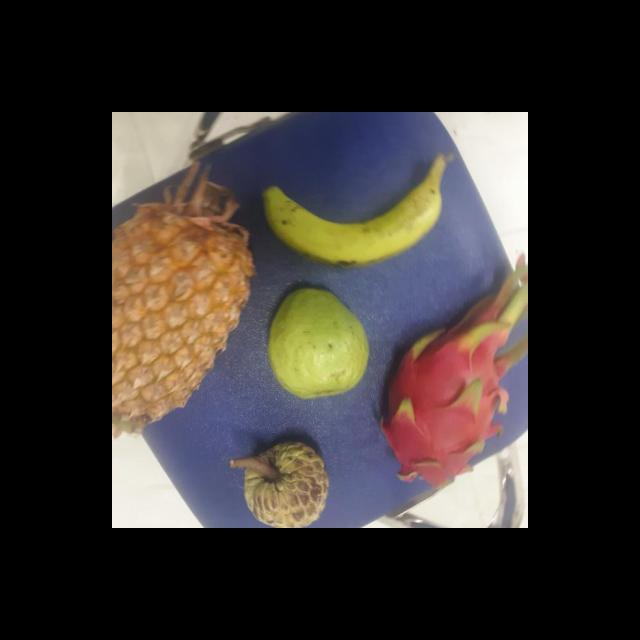Sakya fruit: (238, 438, 335, 528)
banana: (270, 170, 454, 266)
guava: (266, 288, 376, 397)
pitaya: (378, 332, 503, 482)
